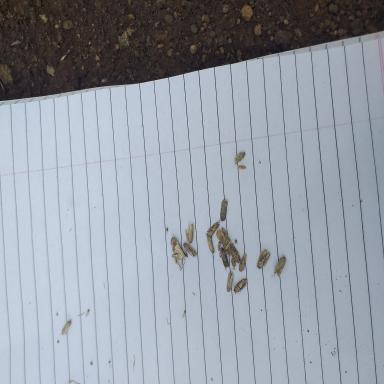pbw: (270, 256, 286, 278), (227, 243, 240, 269), (256, 248, 270, 269), (232, 278, 248, 295), (206, 219, 220, 238), (183, 240, 197, 258), (219, 247, 229, 272), (218, 200, 228, 222), (59, 320, 72, 336), (207, 236, 215, 259), (226, 270, 234, 292), (234, 150, 245, 165), (238, 253, 246, 272), (187, 224, 194, 244), (185, 219, 190, 246), (221, 231, 227, 250), (236, 165, 246, 169), (216, 241, 220, 251)
